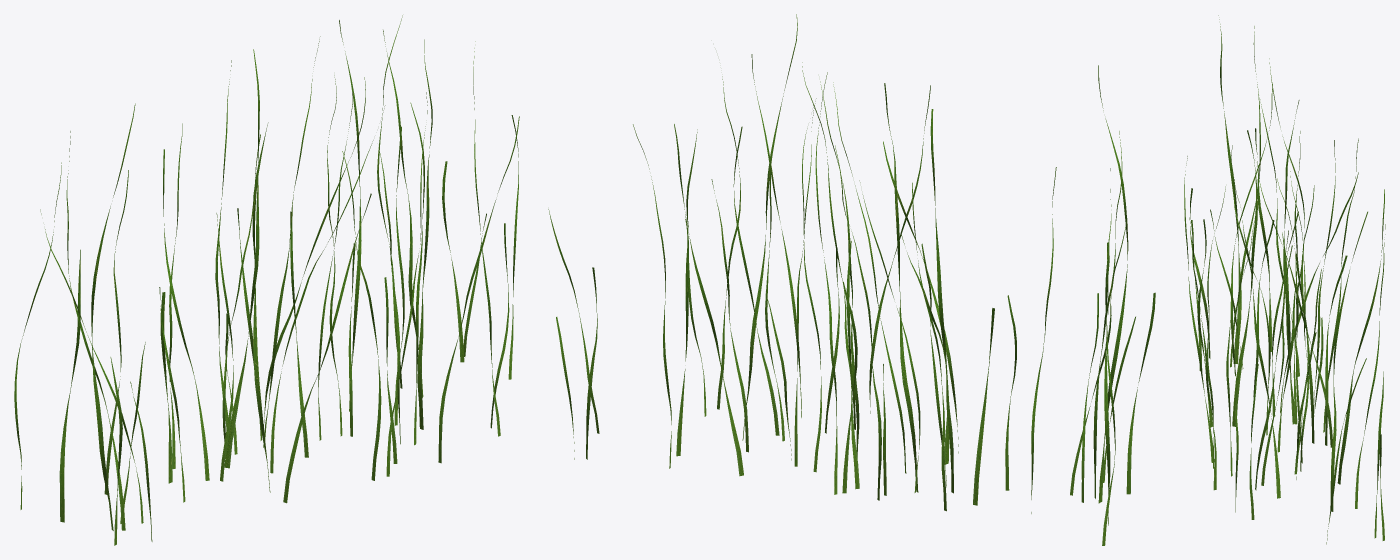
The model's file is plant_43.fbx.
3 views of the same model, side by side, from view 1: azimuth 30°, elevation 25°; view 2: azimuth 150°, elevation 25°; view 3: azimuth 270°, elevation 25° (orthographic). The views are drawn at different scales.
Visible parts, largest first — view 1: seaweed1Main; view 2: seaweed1Main; view 3: seaweed1Main.
Boxes of the visible parts, x1=… form: seaweed1Main: x1=14, y1=15, x2=519, y2=545; seaweed1Main: x1=548, y1=14, x2=1155, y2=545; seaweed1Main: x1=1184, y1=15, x2=1385, y2=544.
Bounding box in the file's own units: 6.62 × 5.09 × 2.62.
